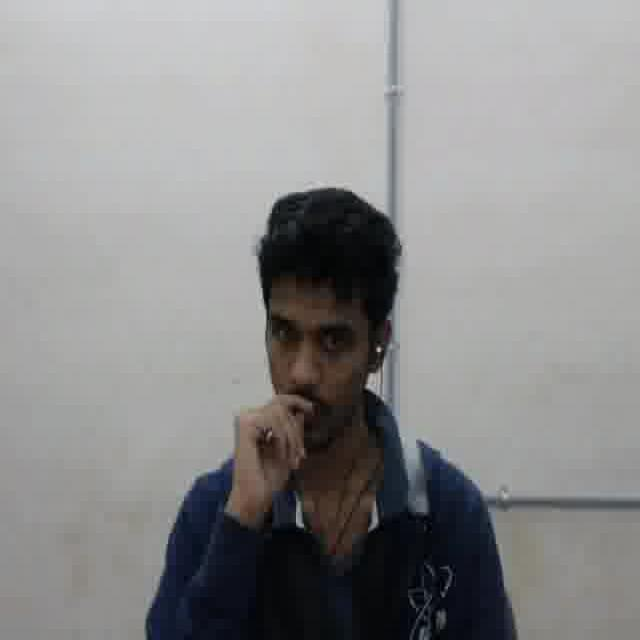Boredom: (265, 272, 365, 440)
